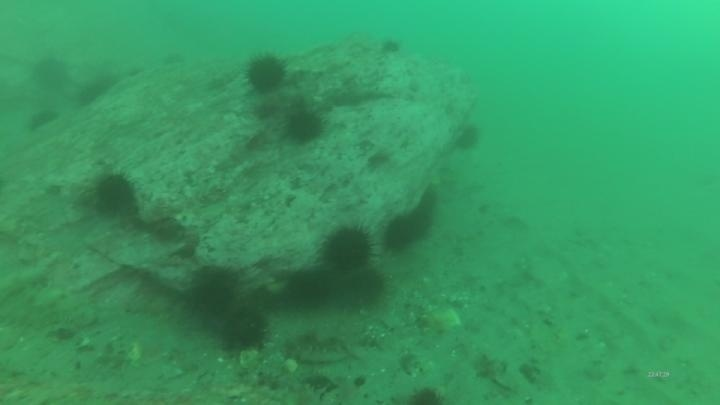echinus: (186, 264, 243, 321), (320, 224, 375, 272), (218, 305, 271, 354), (91, 170, 138, 218), (381, 210, 428, 254), (284, 267, 333, 309), (243, 51, 289, 95), (341, 265, 387, 309), (283, 106, 326, 145), (30, 54, 71, 91), (75, 72, 117, 108), (451, 121, 483, 154), (25, 106, 61, 134), (408, 384, 445, 405), (379, 36, 403, 57)
holothurian: (283, 327, 354, 366)
